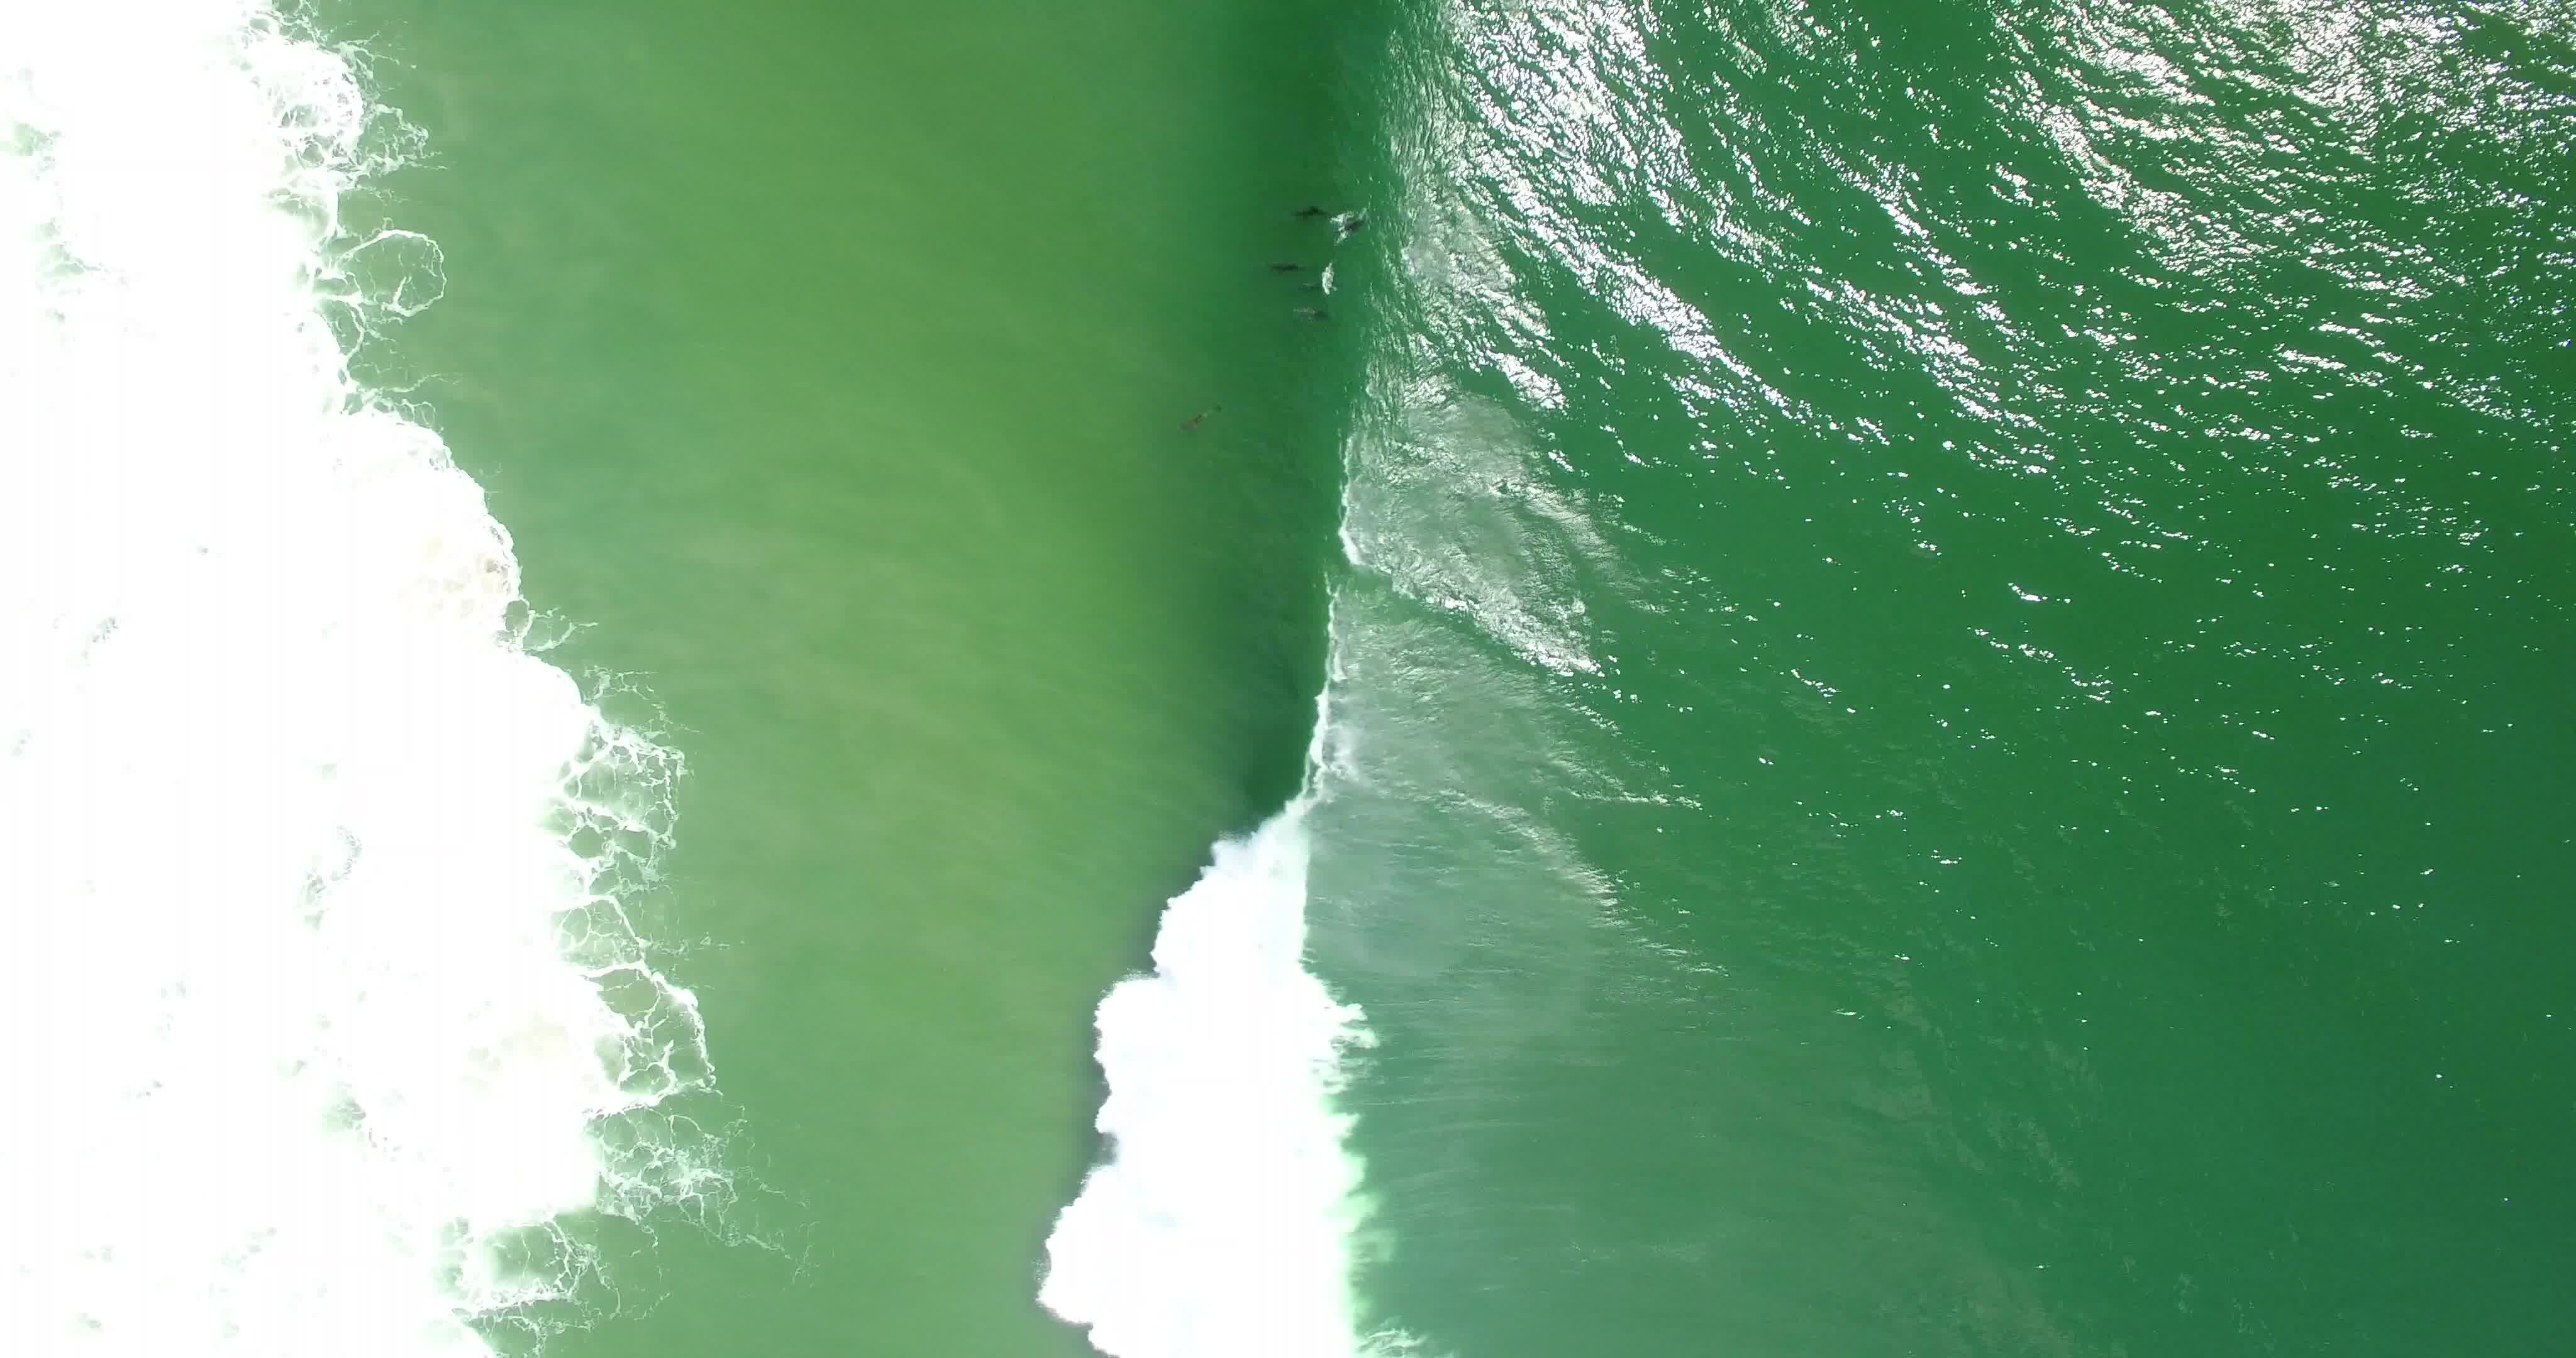dolphin: (1152, 392, 1235, 441), (1271, 295, 1348, 329), (1242, 250, 1315, 281), (1278, 268, 1349, 298), (1266, 194, 1331, 225), (1329, 206, 1371, 235)
